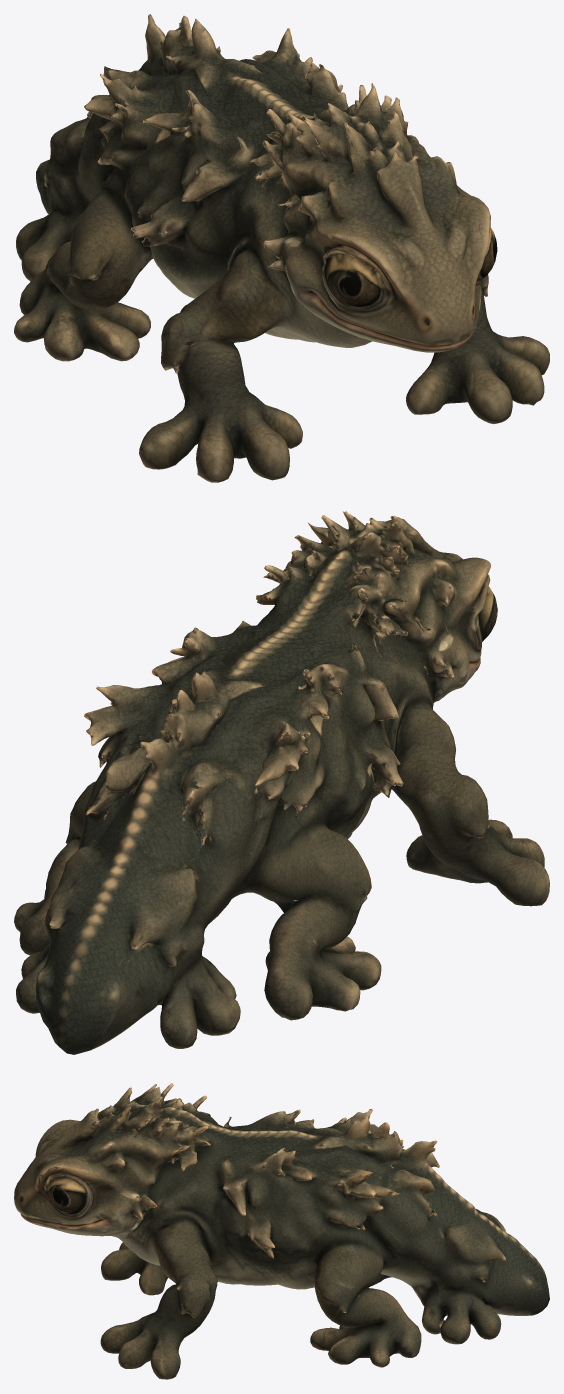
Rendered from mosshock_retex_r2.glb.
The picture shows the model from 3 angles, top to bottom: view 1: azimuth 30°, elevation 25°; view 2: azimuth 150°, elevation 25°; view 3: azimuth 270°, elevation 25°; orthographic projection. The views are drawn at different scales.
Size of the model in its own units: 1.19 by 0.9312 by 2.
Materials: 1 (1 with a texture image).
